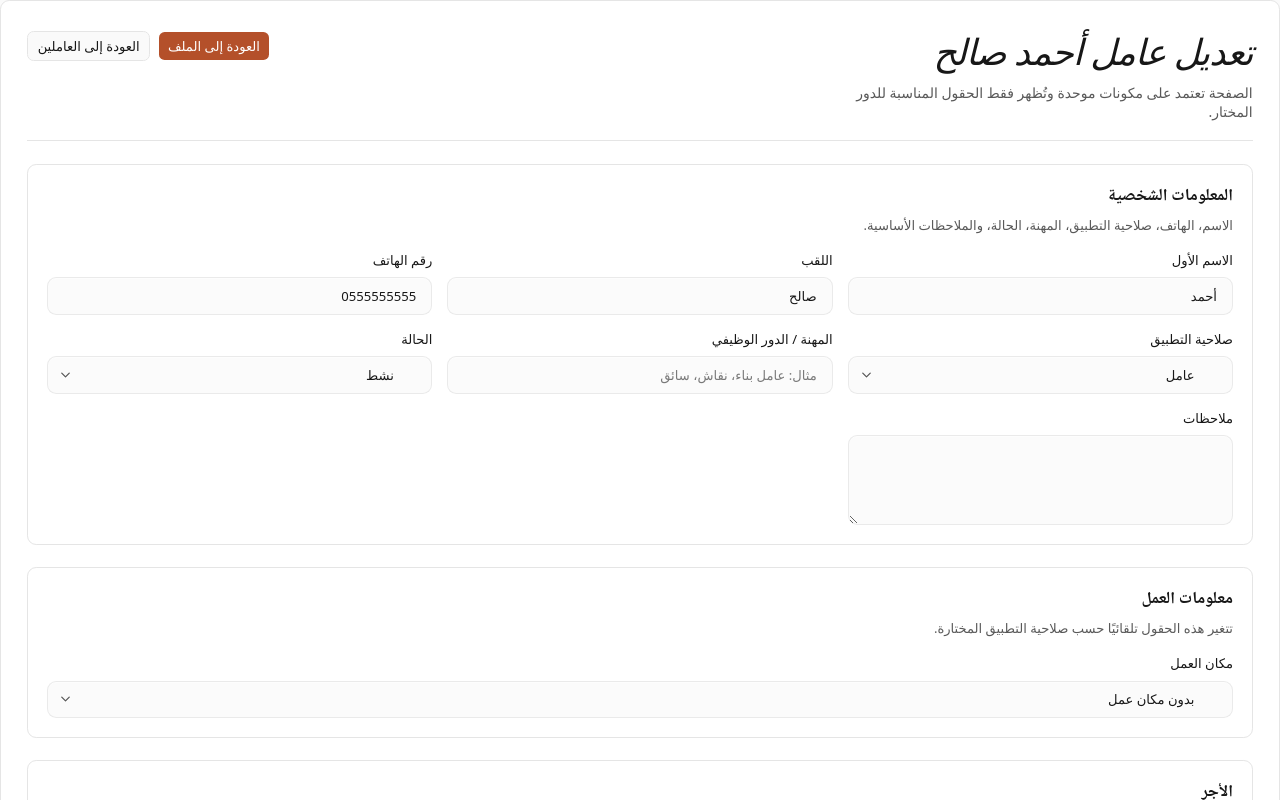
employee edit atomic save (issue #49) › rejects an untouched save for an ACTIVE worker with no placement (issue #20)
The width and height of the screenshot is (1280, 800).
Replace the text in the field labelled "الاسم الأول" with "اسم معدل": (1040, 296) [848,277,1233,315]
(page scrolled)
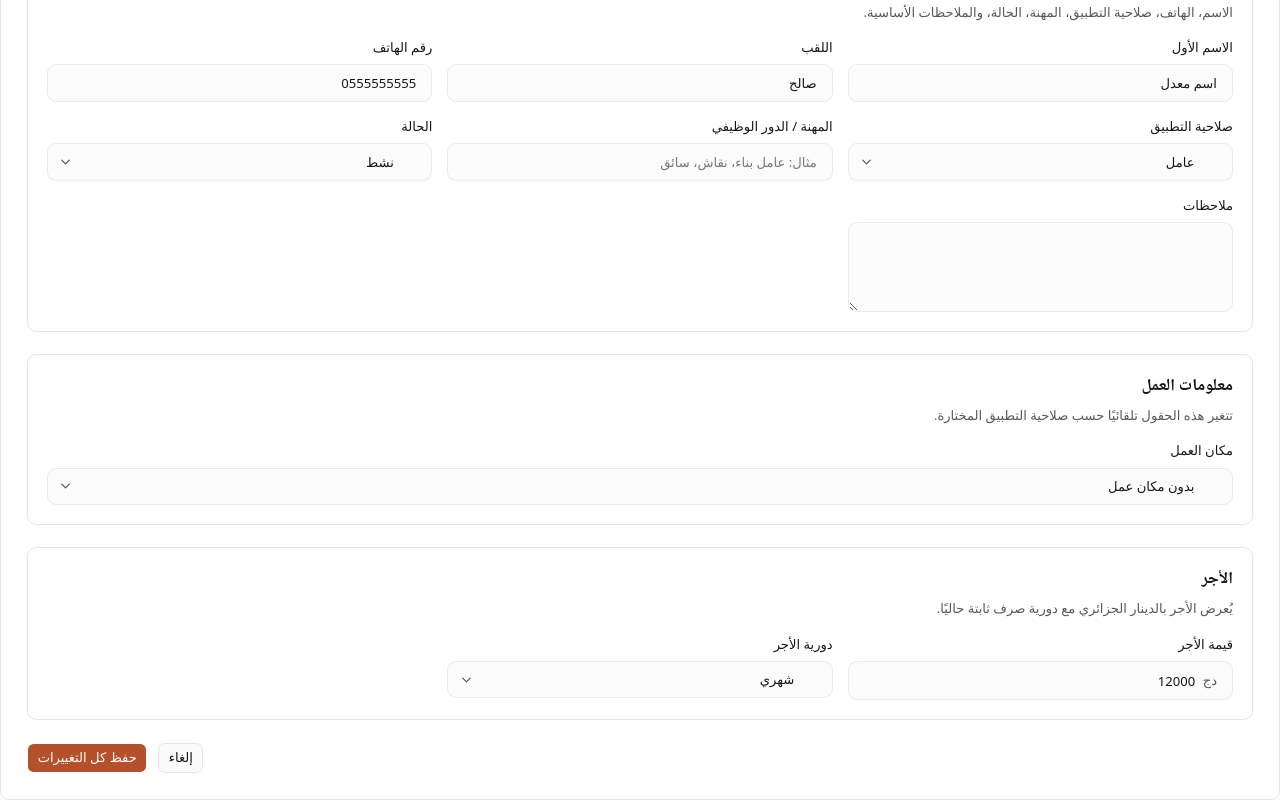
Click the button "حفظ كل التغييرات": click(87, 758) [27,743,147,773]
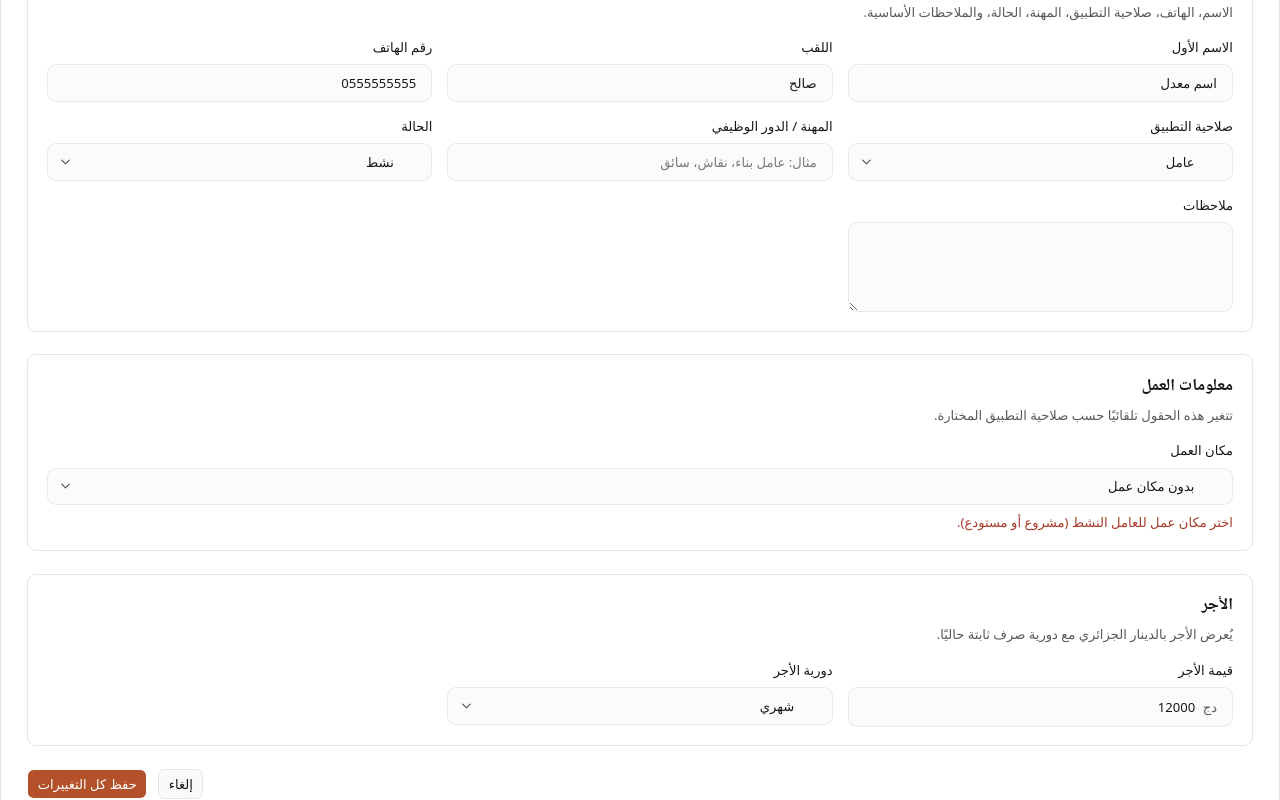
Expected: the text "اختر مكان عمل للعامل النشط (مشروع أو مستودع)." is shown, [957,513,1233,531]
